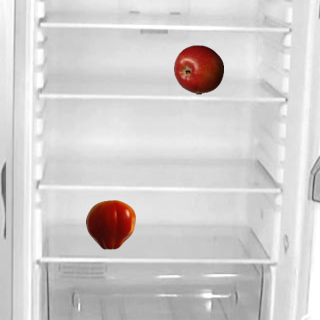Apple Braeburn: (173, 44, 223, 94)
Tomato 1: (85, 199, 135, 249)
